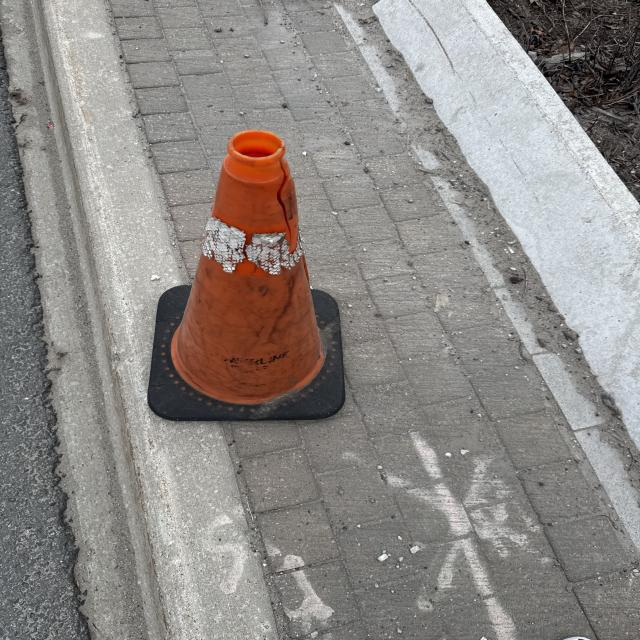Traffic Cone: (149, 128, 346, 422)
